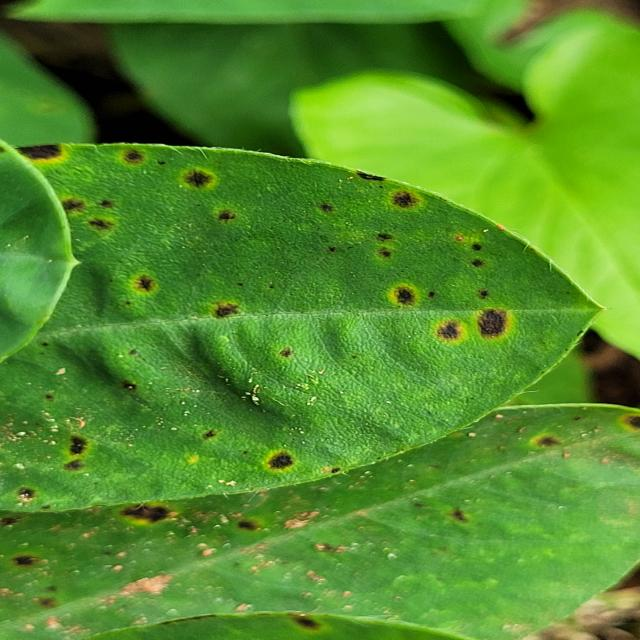Ground nut_tikka leaf spot: (0, 141, 608, 511)
